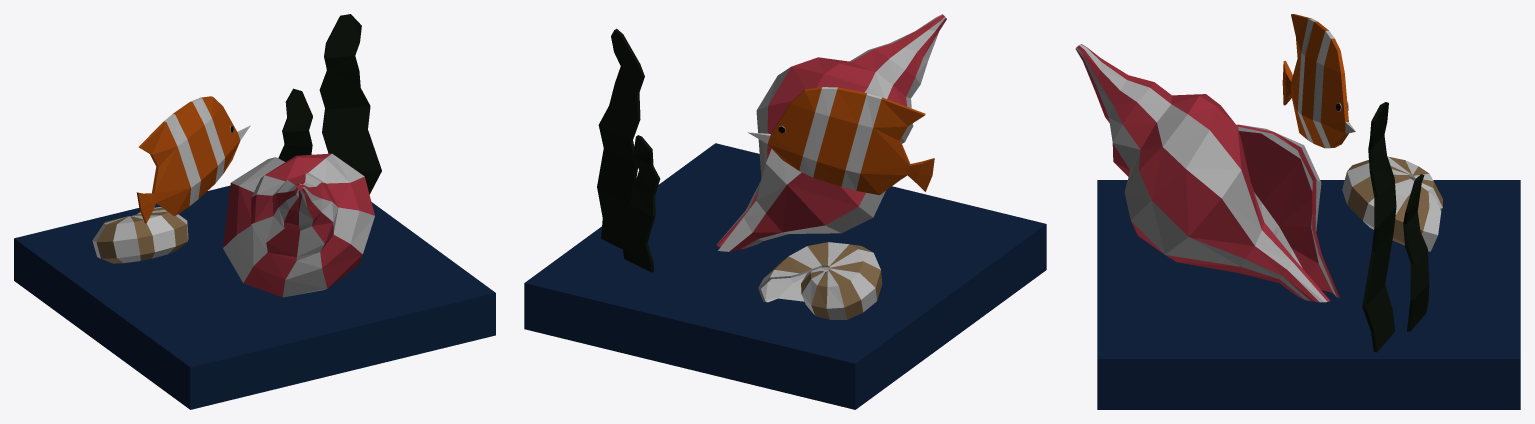
File: W_O_Playground_SeaSymbolic_001_L1.fbx
The picture shows the model from 3 angles, left to right: view 1: azimuth 30°, elevation 25°; view 2: azimuth 150°, elevation 25°; view 3: azimuth 270°, elevation 25°; orthographic projection. The views are drawn at different scales.
Visible parts, largest first — view 1: W_O_Playground_SeaSymbolic_001_L1; view 2: W_O_Playground_SeaSymbolic_001_L1; view 3: W_O_Playground_SeaSymbolic_001_L1.
Part boxes in pixels (box(x1,y1,x2,y2)): W_O_Playground_SeaSymbolic_001_L1: box(14, 14, 495, 409); W_O_Playground_SeaSymbolic_001_L1: box(524, 14, 1046, 409); W_O_Playground_SeaSymbolic_001_L1: box(1075, 14, 1520, 409).
Size of the model in its own units: 2 by 1.51 by 2.1.
